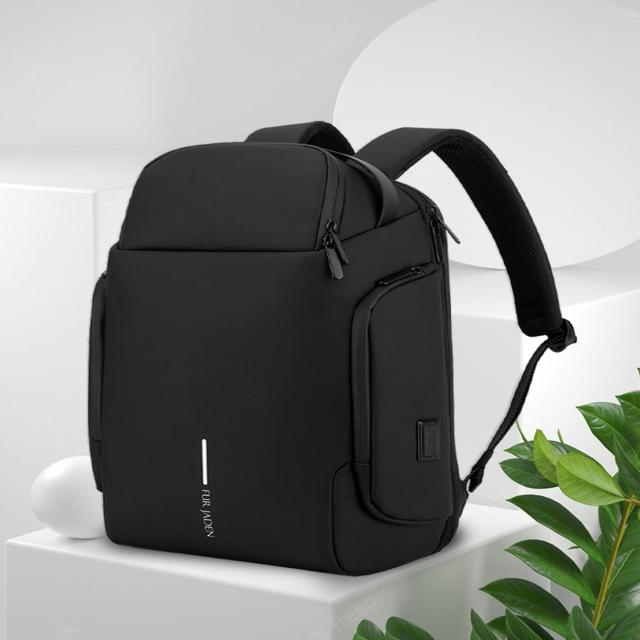backpack: (88, 121, 578, 578)
